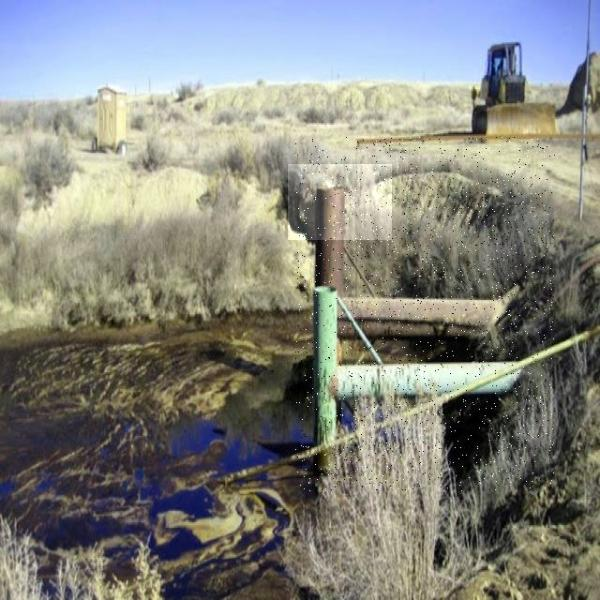gas: (288, 164, 392, 240)
